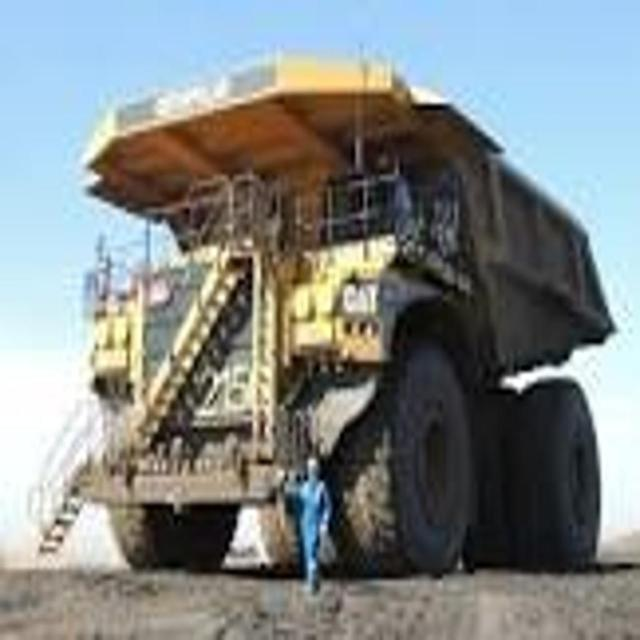dump_truck: (34, 53, 616, 593)
